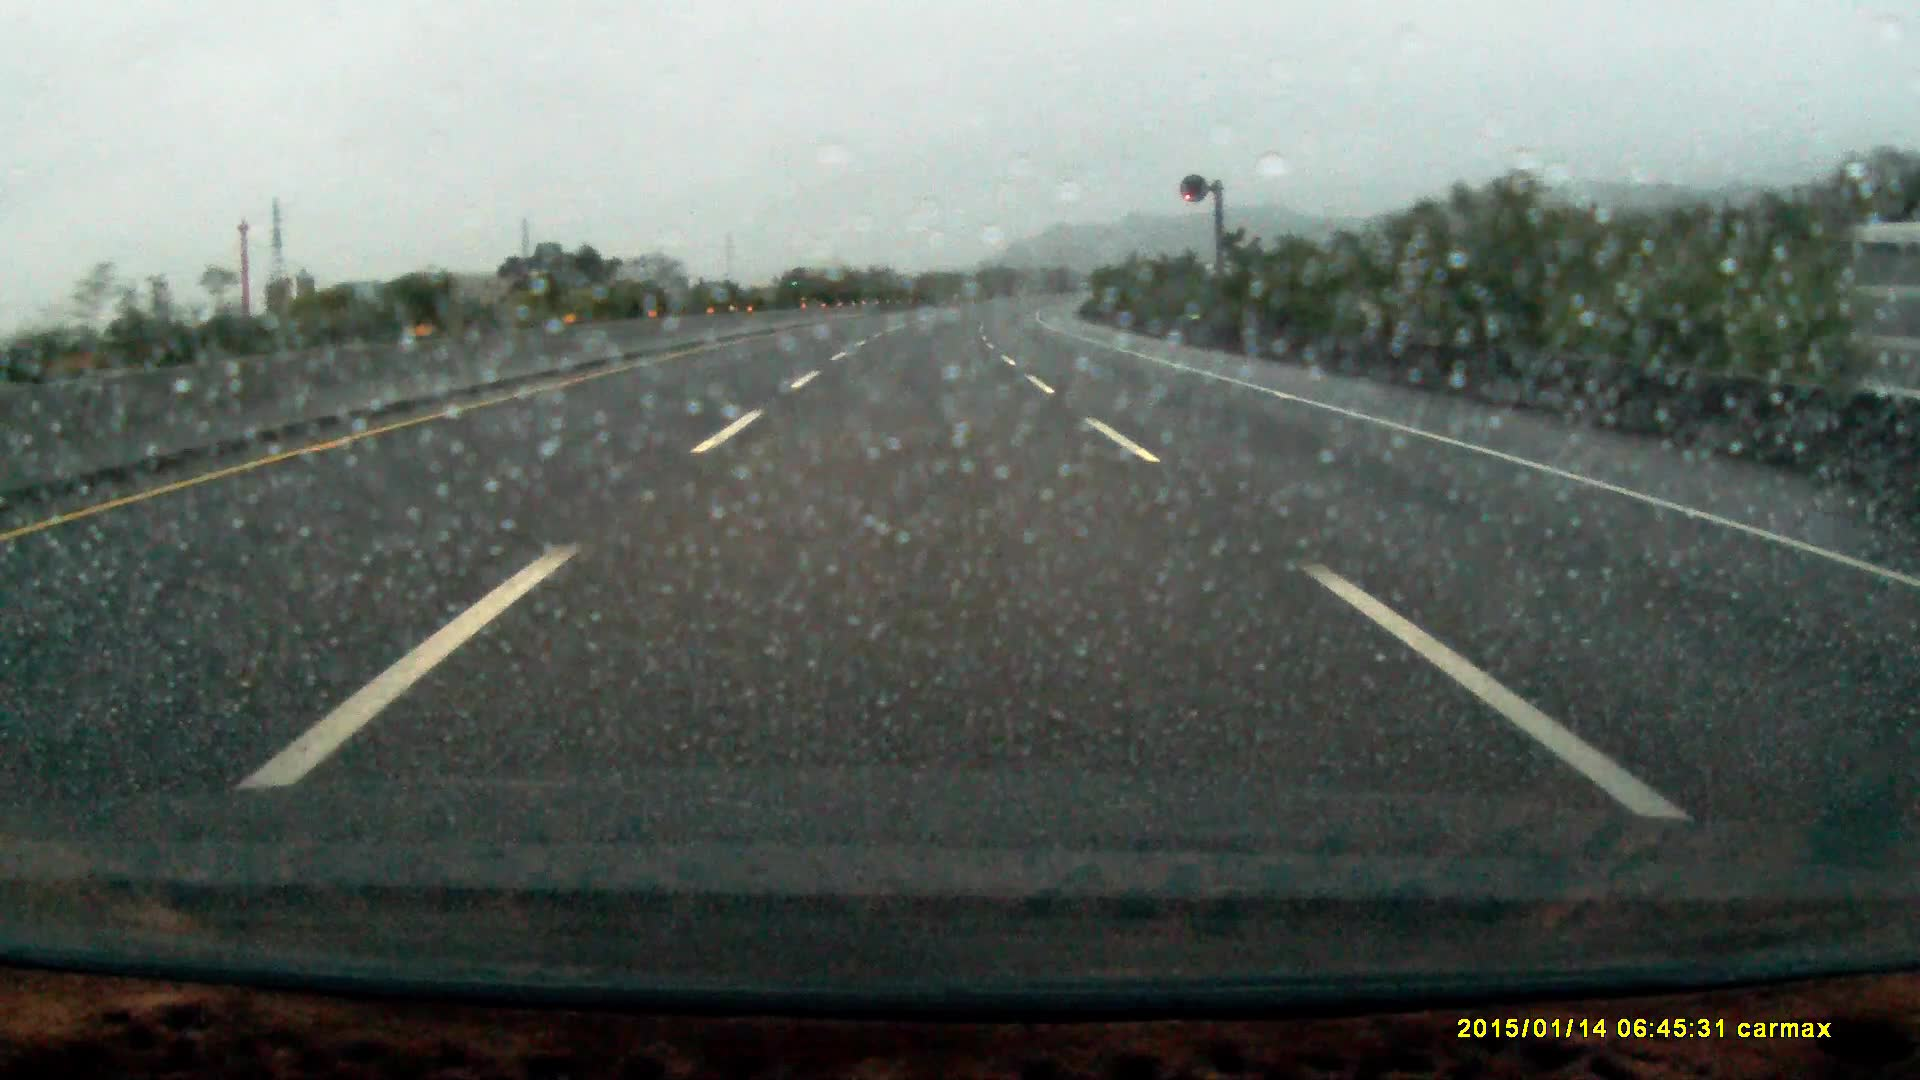vehicle: (786, 266, 827, 306)
